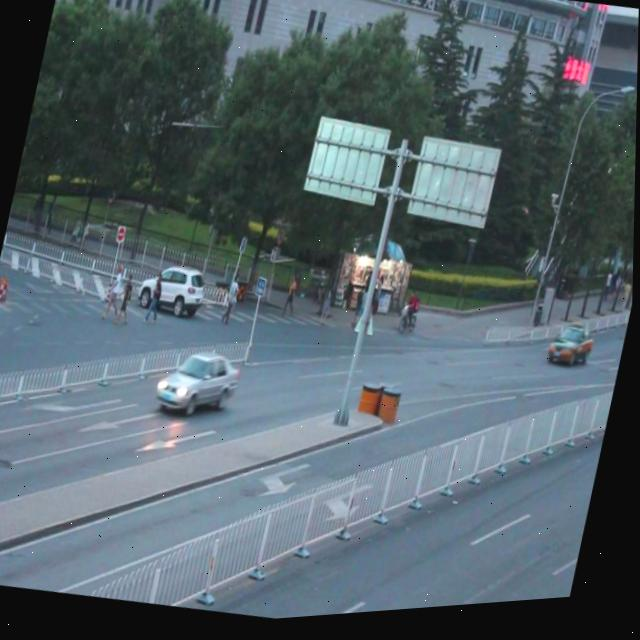car: (153, 342, 248, 427), (137, 262, 210, 324), (545, 325, 598, 378)
